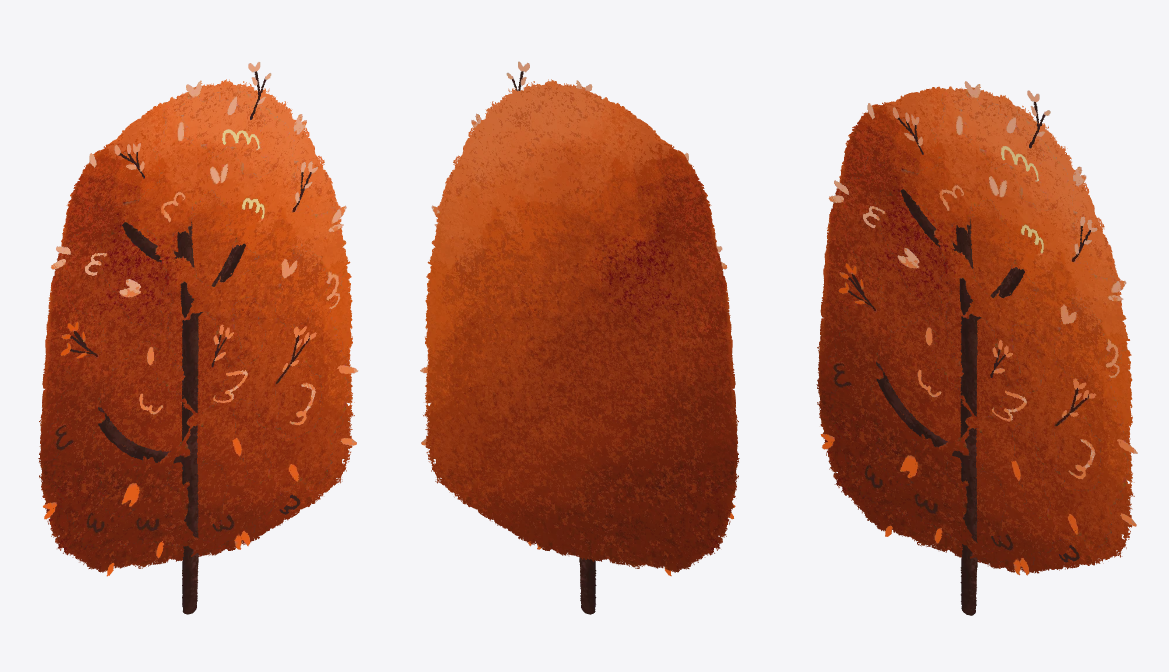
File: tree_2.glb
3 renders of one model, left to right at view 1: azimuth 30°, elevation 25°; view 2: azimuth 150°, elevation 25°; view 3: azimuth 330°, elevation 25°, orthographic.
Visible parts, largest first — view 1: tree_2_green_foreground, tree_2_green_background, tree_2_stem; view 2: tree_2_green_background, tree_2_stem, tree_2_green_foreground; view 3: tree_2_green_foreground, tree_2_green_background, tree_2_stem.
Boxes of the visible parts, x1,y1,x2,y2 form: tree_2_green_foreground: [43, 62, 358, 576]; tree_2_green_background: [38, 79, 354, 572]; tree_2_stem: [98, 222, 245, 614]; tree_2_green_background: [423, 79, 739, 572]; tree_2_stem: [579, 557, 596, 614]; tree_2_green_foreground: [420, 61, 735, 576]; tree_2_green_foreground: [820, 81, 1137, 575]; tree_2_green_background: [816, 86, 1134, 573]; tree_2_stem: [876, 189, 1024, 615].
Bounding box in the file's own units: 2.86 × 4.33 × 0.002.
3 materials, 3 textured.
